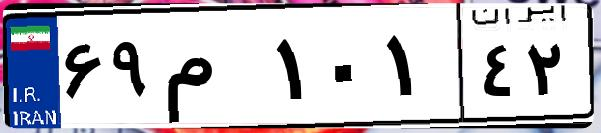0: (330, 28, 385, 110)
1: (270, 28, 330, 110), (385, 28, 445, 110)
2: (525, 38, 570, 115)
4: (475, 38, 525, 113)
6: (57, 26, 110, 100)
9: (110, 28, 158, 98)
م: (158, 20, 270, 120)
